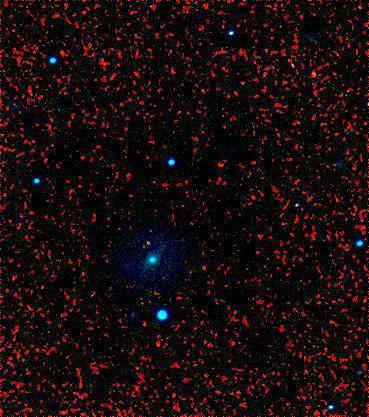star: (132, 230, 162, 260)
